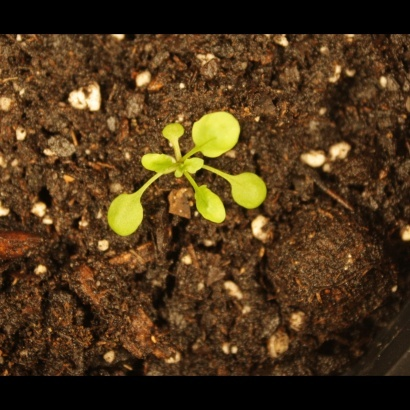leaf: (103, 190, 155, 243), (190, 110, 245, 158), (224, 168, 276, 213), (187, 181, 228, 226), (139, 150, 179, 178), (156, 119, 192, 146), (183, 153, 206, 177)
